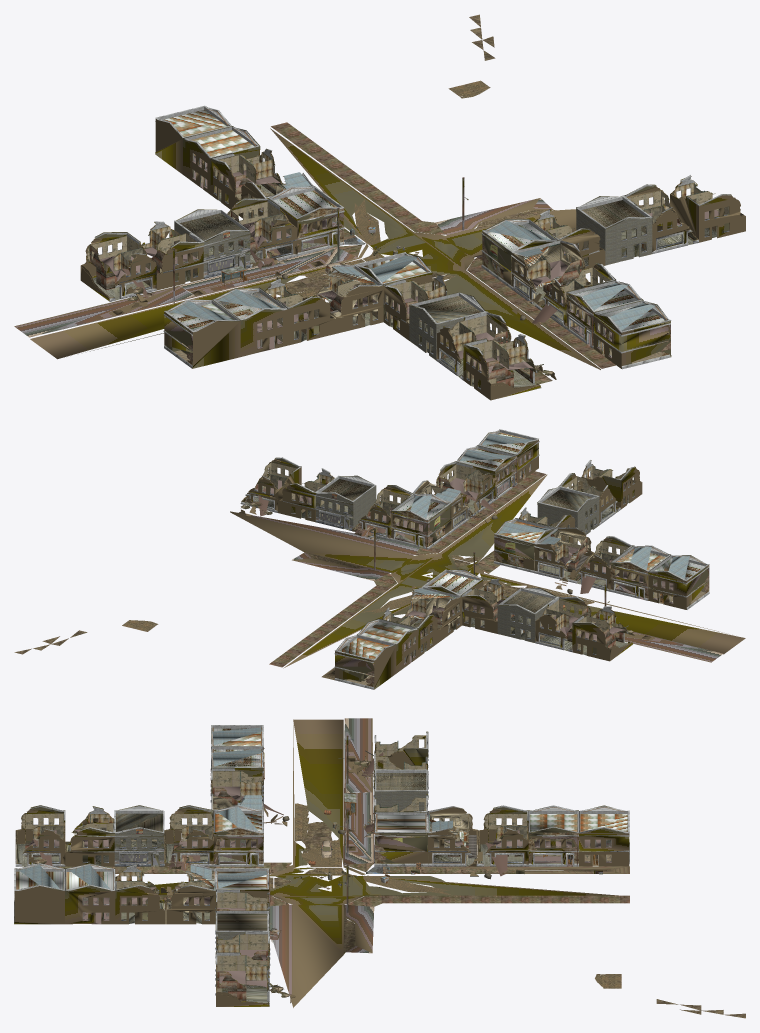
File: abandoned.glb
3 renders of one model, top to bottom at view 1: azimuth 30°, elevation 25°; view 2: azimuth 150°, elevation 25°; view 3: azimuth 270°, elevation 25°, orthographic. The views are drawn at different scales.
Size of the model in its own units: 35.92 by 3 by 37.17.
Materials: 70 (70 with a texture image).
